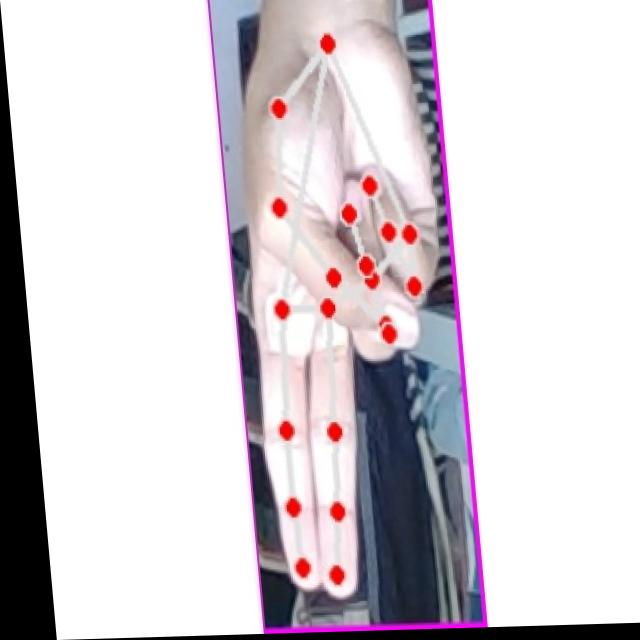U: (227, 19, 458, 606)
